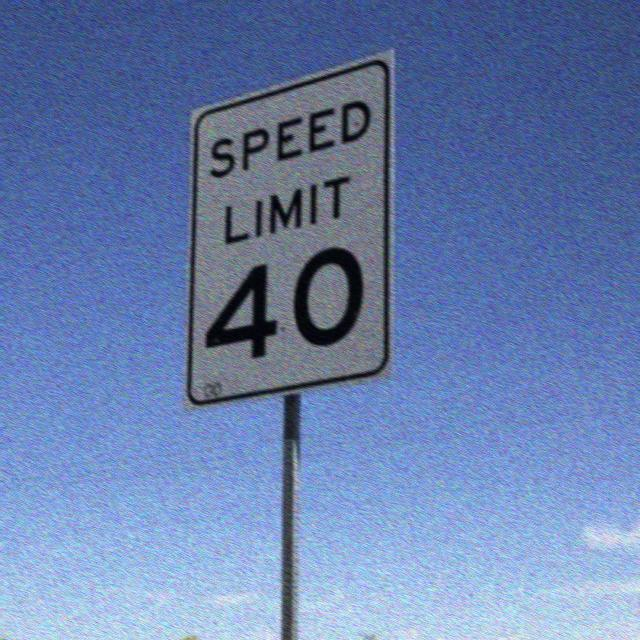speedLimit40: (188, 101, 384, 370)
